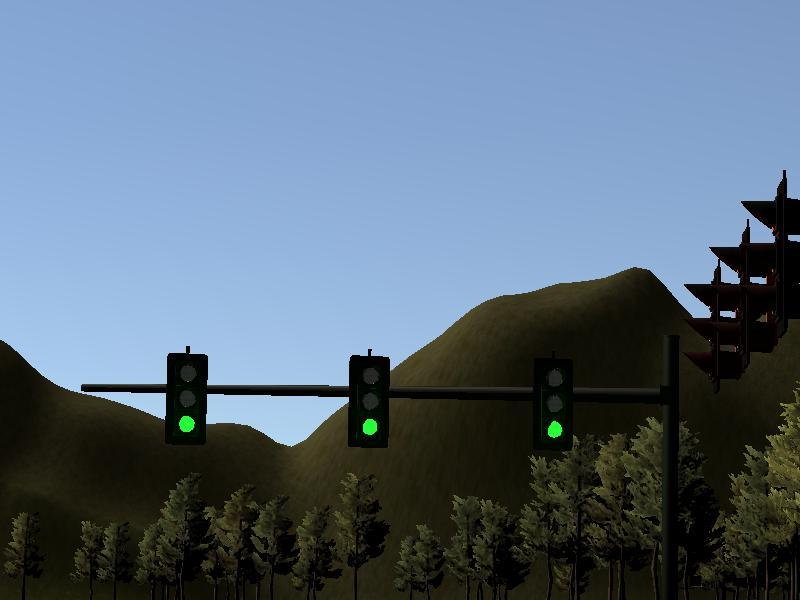Green: (165, 353, 208, 445), (533, 359, 576, 451), (347, 355, 390, 447)
